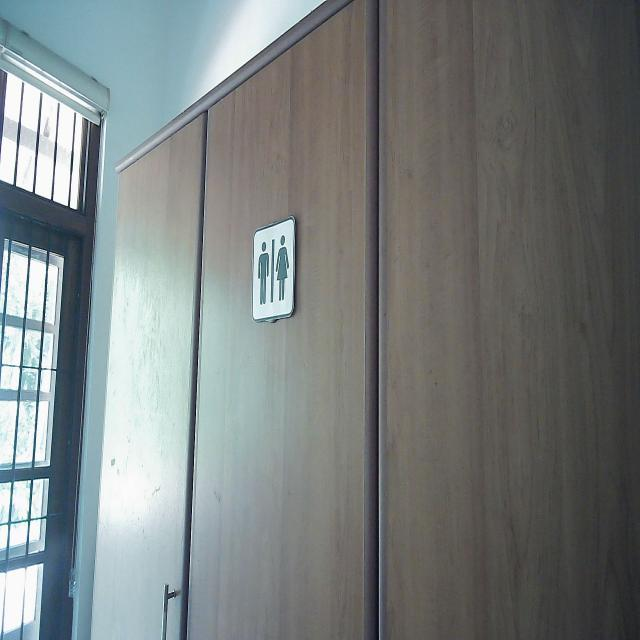restroom: (250, 214, 300, 325)
